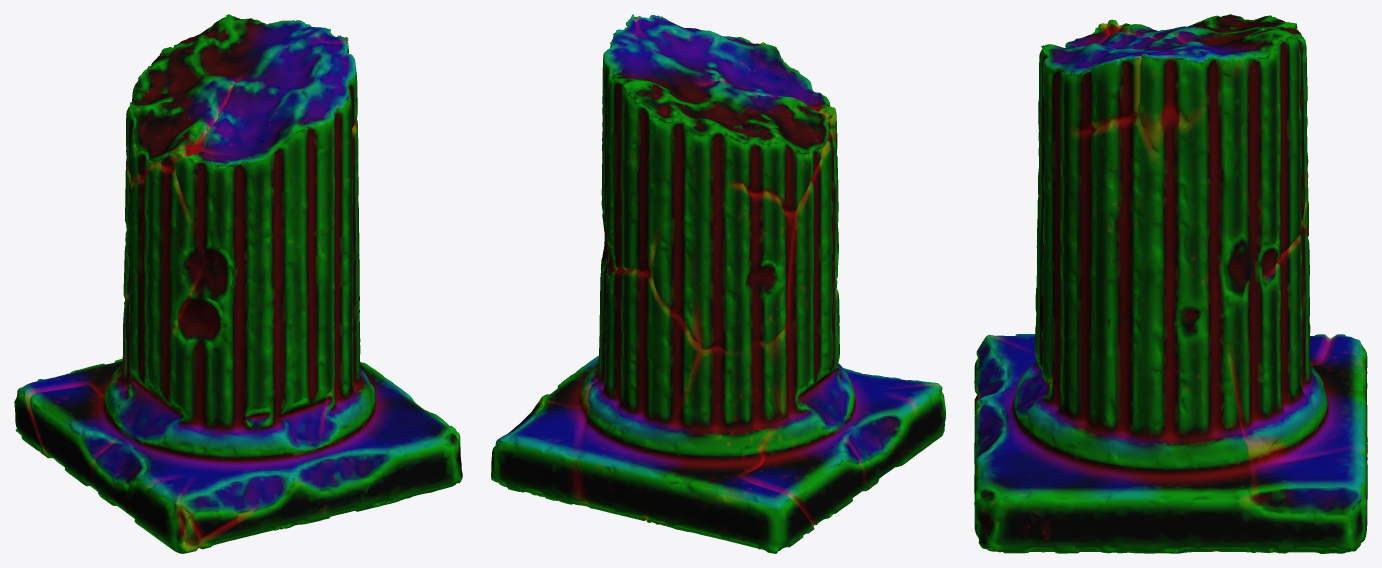
File: SM_Ruin_B.glb
The picture shows the model from 3 angles, left to right: view 1: azimuth 30°, elevation 25°; view 2: azimuth 150°, elevation 25°; view 3: azimuth 270°, elevation 25°; orthographic projection. The views are drawn at different scales.
Visible parts, largest first — view 1: SM_Ruin_B; view 2: SM_Ruin_B; view 3: SM_Ruin_B.
Part boxes in pixels (x1,y1,x2,y2): SM_Ruin_B: (14,14,462,553); SM_Ruin_B: (491,14,945,553); SM_Ruin_B: (974,14,1367,553).
Bounding box in the file's own units: 1.95 × 2.59 × 1.94.
